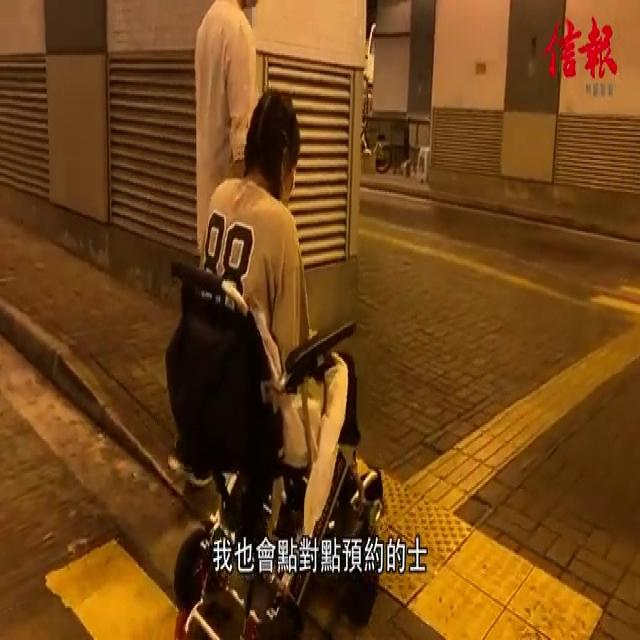wheelchairs: (155, 251, 392, 640)
